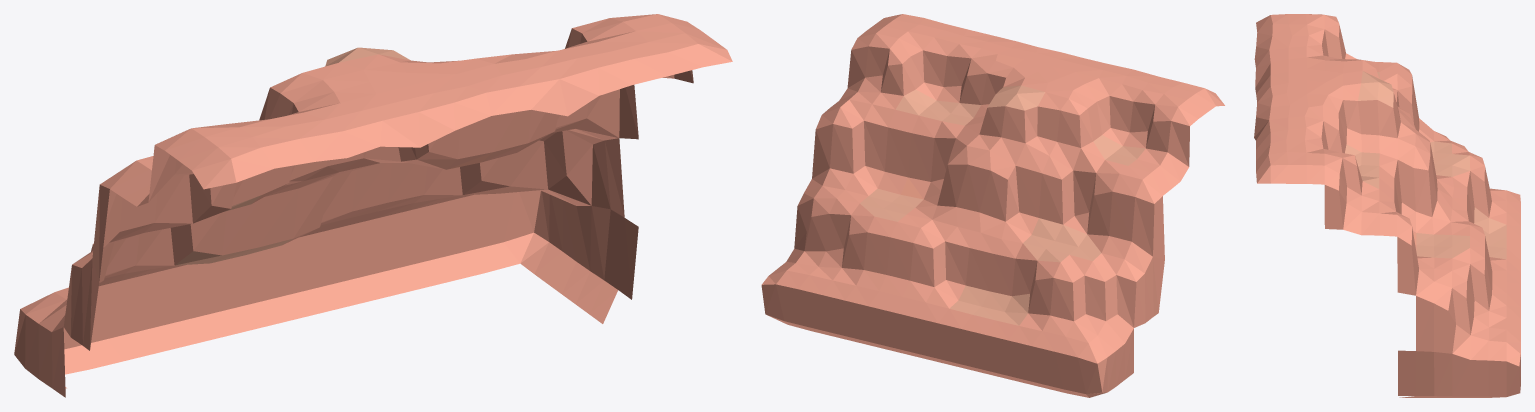
File: wall01.fbx
The picture shows the model from 3 angles, left to right: view 1: azimuth 30°, elevation 25°; view 2: azimuth 150°, elevation 25°; view 3: azimuth 270°, elevation 25°; orthographic projection. The views are drawn at different scales.
Visible parts, largest first — view 1: RockFront; view 2: RockFront; view 3: RockFront.
Boxes of the visible parts, x1,y1,x2,y2 form: RockFront: (14,14,732,397); RockFront: (761,14,1224,397); RockFront: (1254,14,1520,397).
Size of the model in its own units: 934 by 586 by 606.
